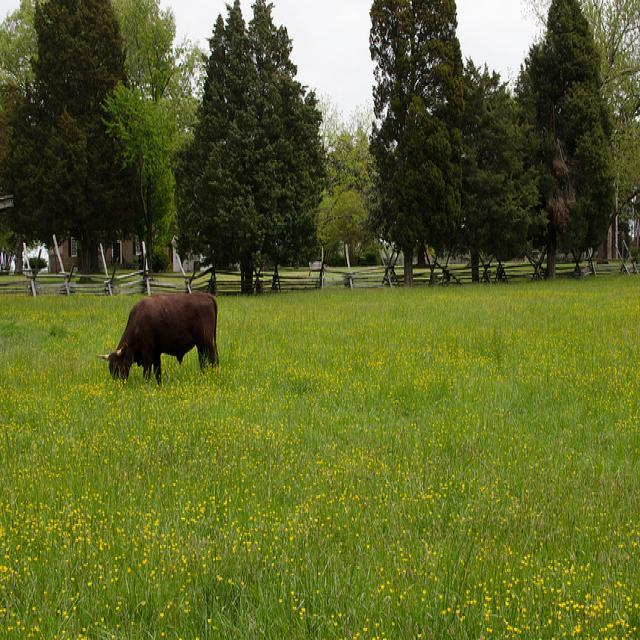cow: (92, 290, 217, 383)
